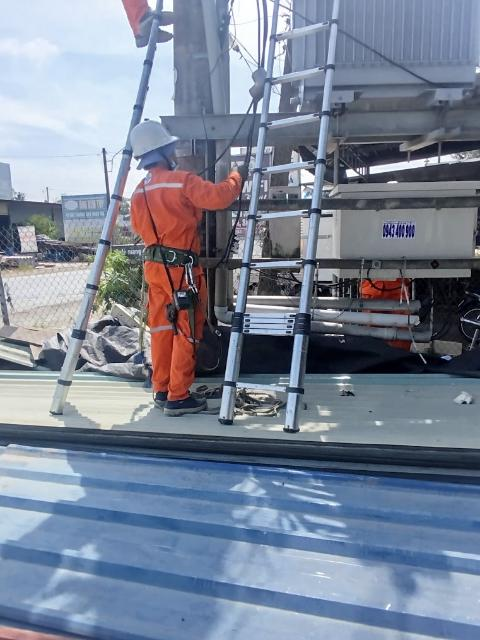gloves: (227, 156, 266, 189)
harness: (140, 237, 209, 276)
helmet: (123, 114, 195, 160)
shoes: (133, 1, 186, 31), (162, 388, 209, 418), (129, 26, 186, 48), (151, 387, 175, 406)
